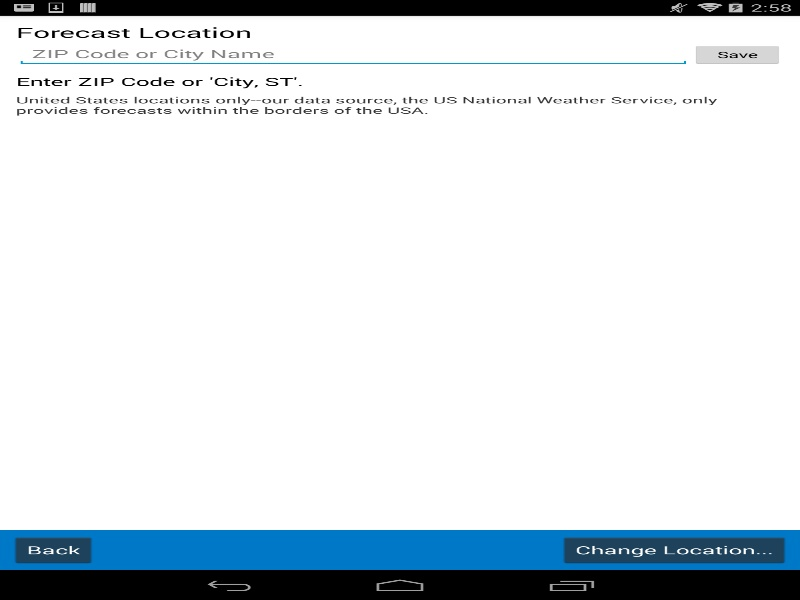Button: (559, 535, 789, 565), (10, 535, 96, 565), (690, 43, 784, 65)
Input: (16, 41, 690, 66)
